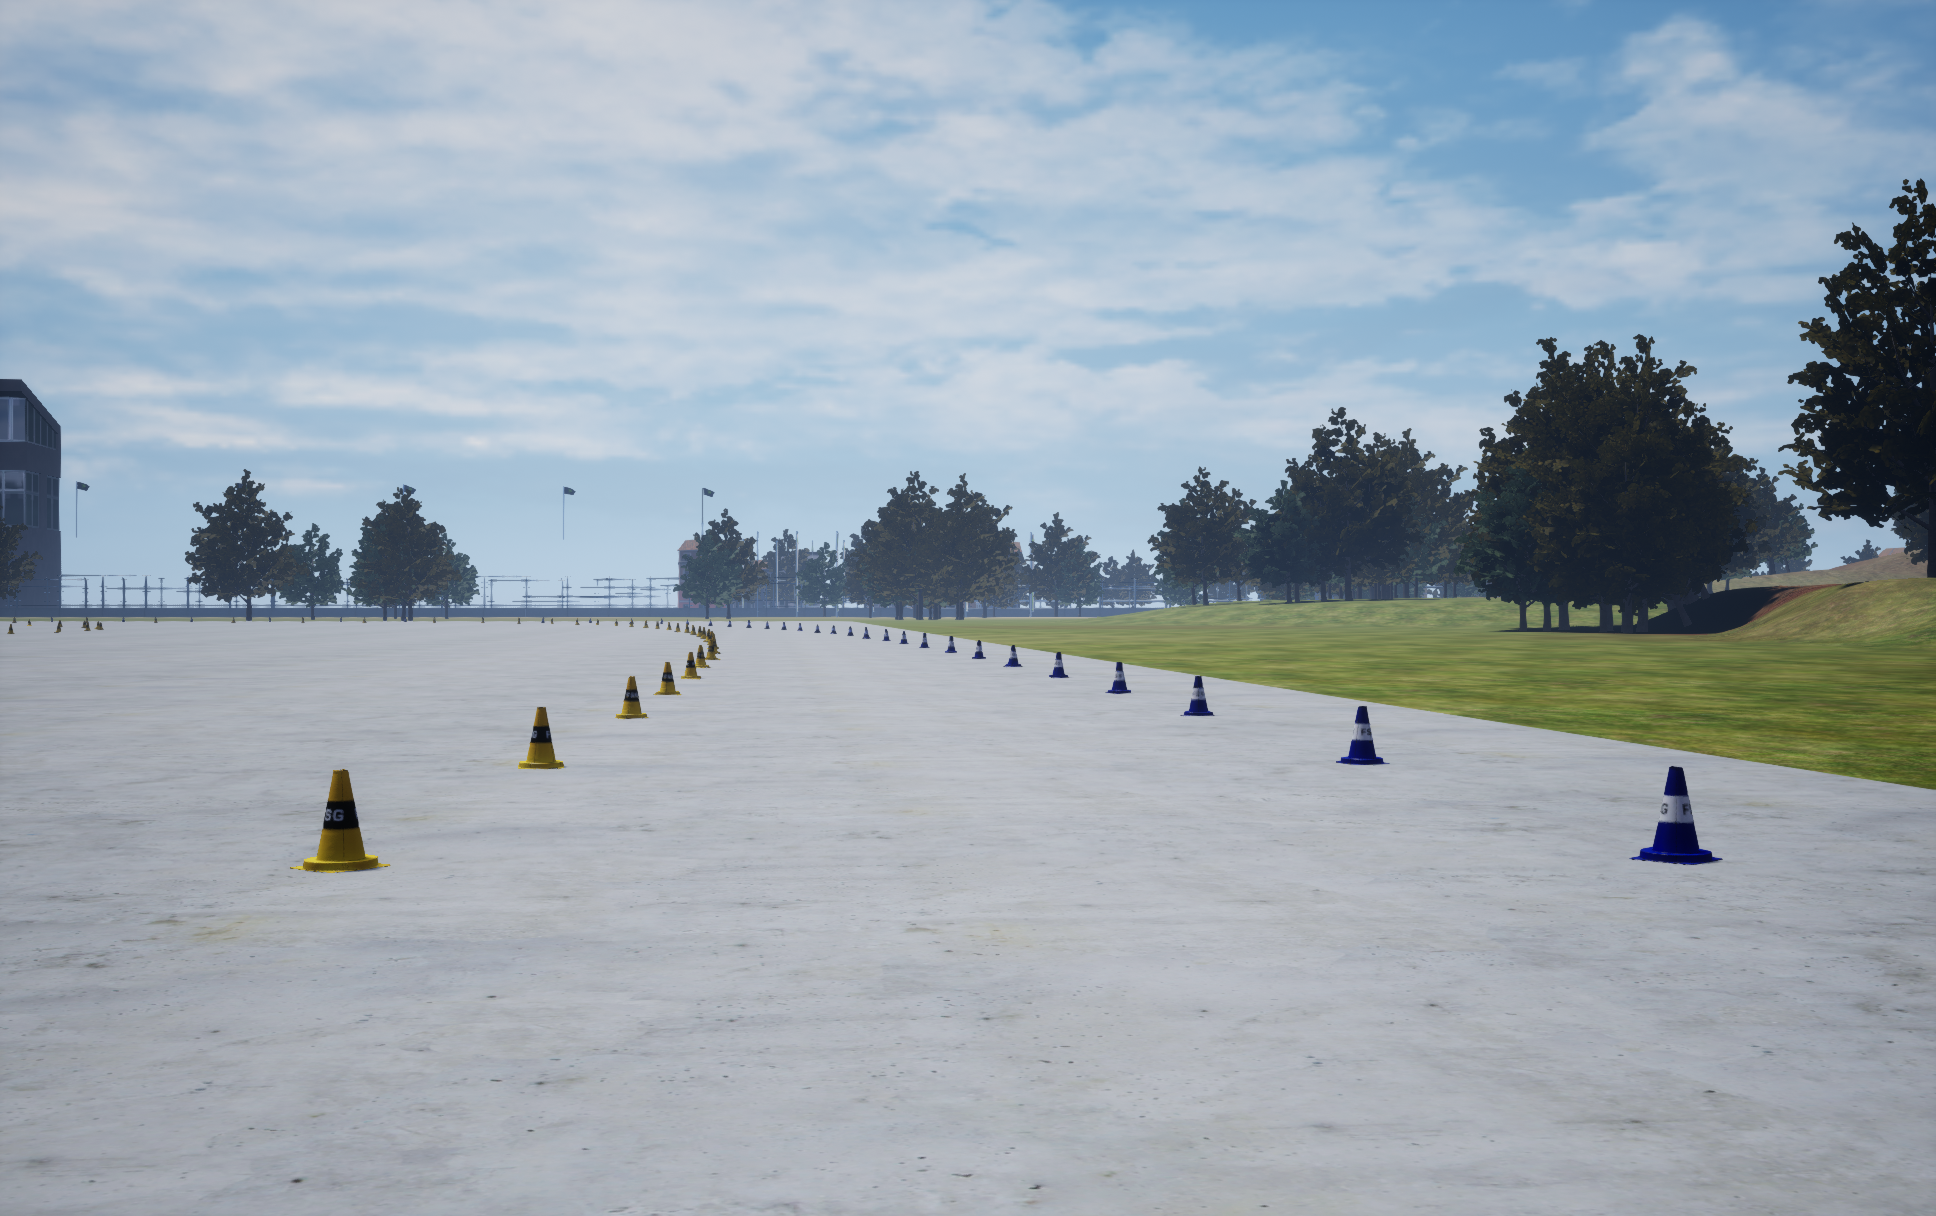blue: (290, 769, 389, 871), (518, 707, 563, 768), (615, 677, 649, 719), (653, 663, 681, 693), (681, 651, 700, 678), (695, 644, 710, 667), (705, 640, 720, 658)
yellow: (1629, 766, 1722, 864), (1336, 706, 1390, 764), (1180, 677, 1215, 714), (1105, 663, 1131, 693), (1049, 651, 1067, 677), (1003, 644, 1023, 665), (972, 640, 985, 658)
